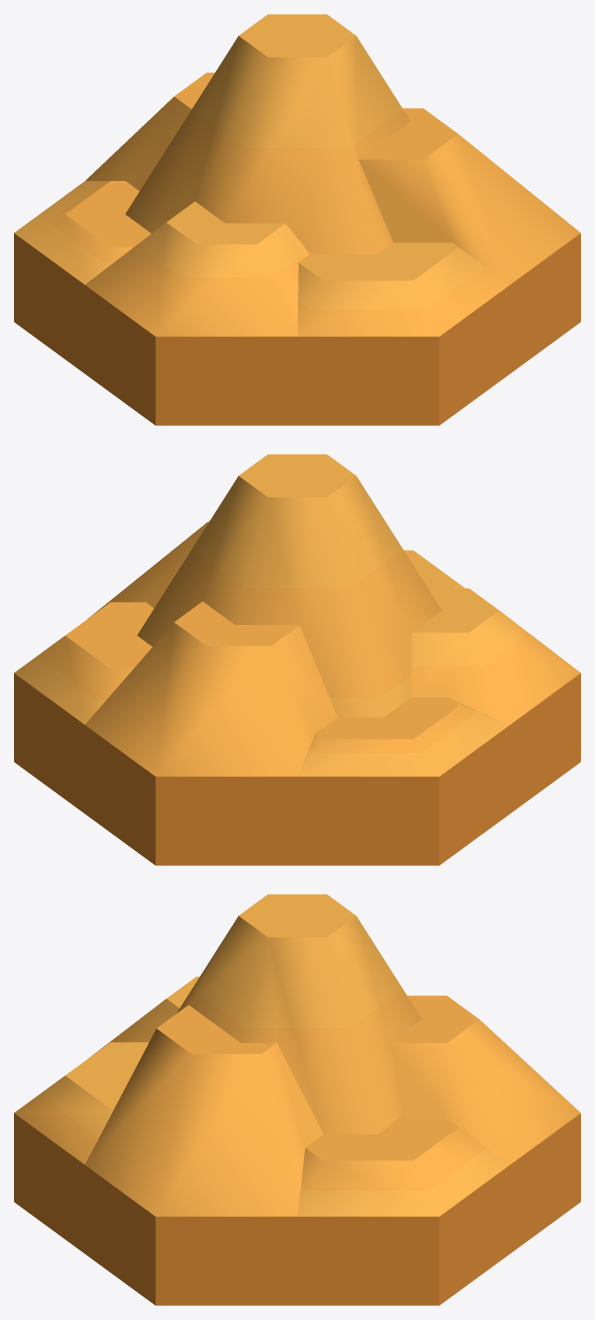
File: hill_desert.glb
3 views of the same model, one above another, from view 1: azimuth 30°, elevation 25°; view 2: azimuth 150°, elevation 25°; view 3: azimuth 270°, elevation 25° (orthographic).
Parts seen in each view (by area): view 1: stone-hill; view 2: stone-hill; view 3: stone-hill.
Boxes of the visible parts, x1,y1,x2,y2 form: stone-hill: (14,14,580,425); stone-hill: (14,454,580,865); stone-hill: (14,894,580,1305).
Bounding box in the file's own units: 1 × 0.6432 × 1.15.
1 material, 1 textured.
